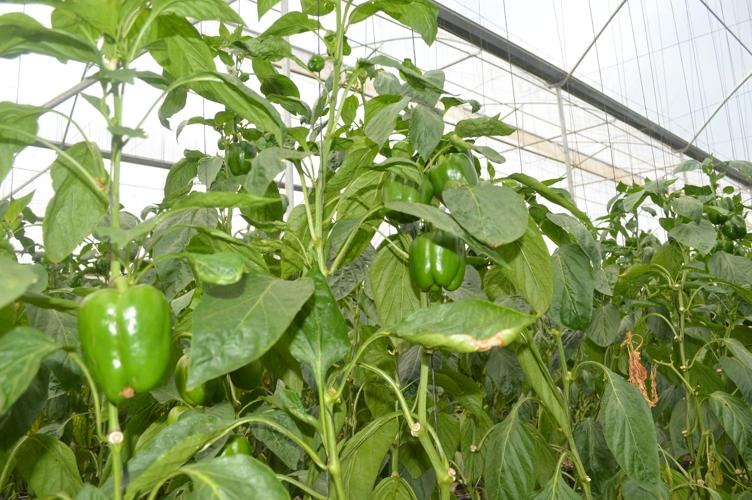BellPepper: (74, 286, 167, 395), (406, 232, 464, 292), (382, 168, 431, 222), (435, 154, 479, 195), (175, 360, 214, 406)
